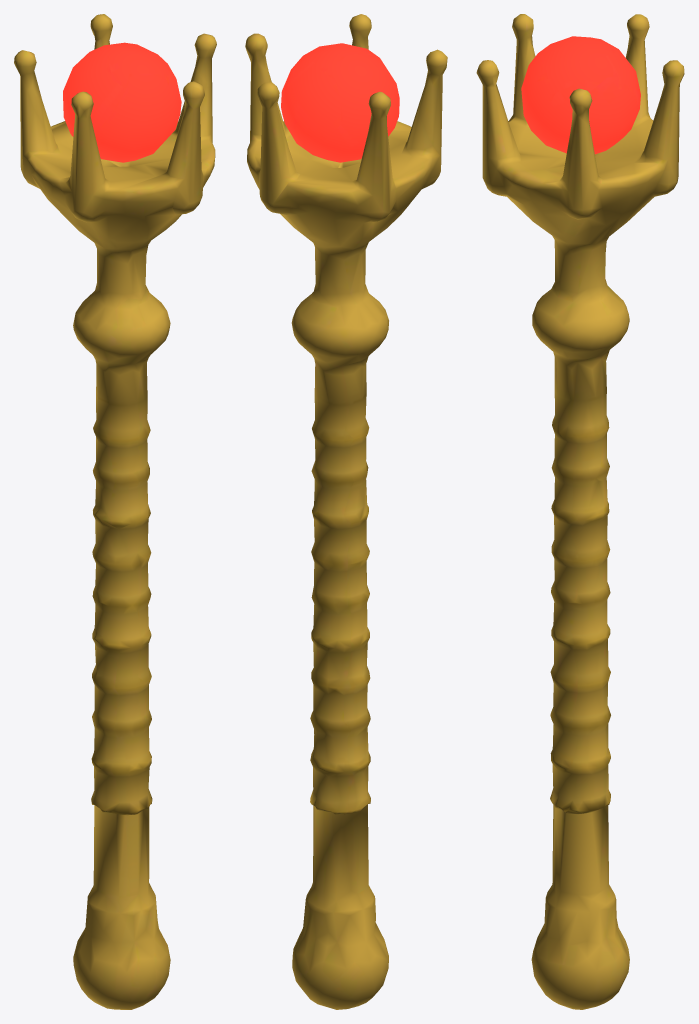
The model's file is magic-scepter.glb.
3 views of the same model, side by side, from view 1: azimuth 30°, elevation 25°; view 2: azimuth 150°, elevation 25°; view 3: azimuth 270°, elevation 25° (orthographic).
Parts seen in each view (by area): view 1: gold, gem; view 2: gold, gem; view 3: gold, gem.
Part boxes in pixels (box(x1,y1,x2,y2)): gold: box(14, 14, 216, 1009); gem: box(63, 42, 181, 162); gold: box(245, 14, 447, 1009); gem: box(281, 43, 399, 162); gold: box(476, 14, 684, 1009); gem: box(521, 36, 640, 154).
Size of the model in its own units: 0.1075 by 0.5614 by 0.1099.
Materials: 2 (2 with a texture image).
